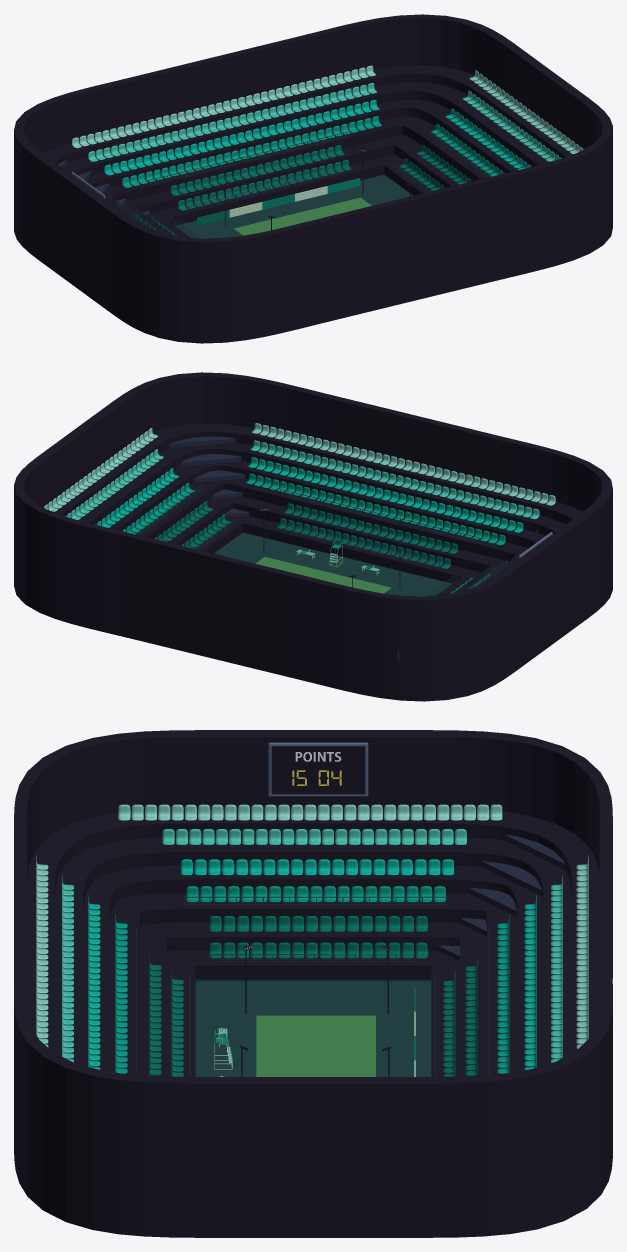
File: stadiosimple.fbx
3 renders of one model, top to bottom at view 1: azimuth 30°, elevation 25°; view 2: azimuth 150°, elevation 25°; view 3: azimuth 270°, elevation 25°, orthographic. The views are drawn at different scales.
Visible parts, largest first — view 1: linea1.003; view 2: linea1.003; view 3: linea1.003.
Boxes of the visible parts, x1=… form: linea1.003: x1=14, y1=14, x2=612, y2=343; linea1.003: x1=14, y1=372, x2=612, y2=701; linea1.003: x1=14, y1=730, x2=612, y2=1237.
Size of the model in its own units: 55704 by 11795 by 39889.
Materials: 45 (45 with a texture image).
